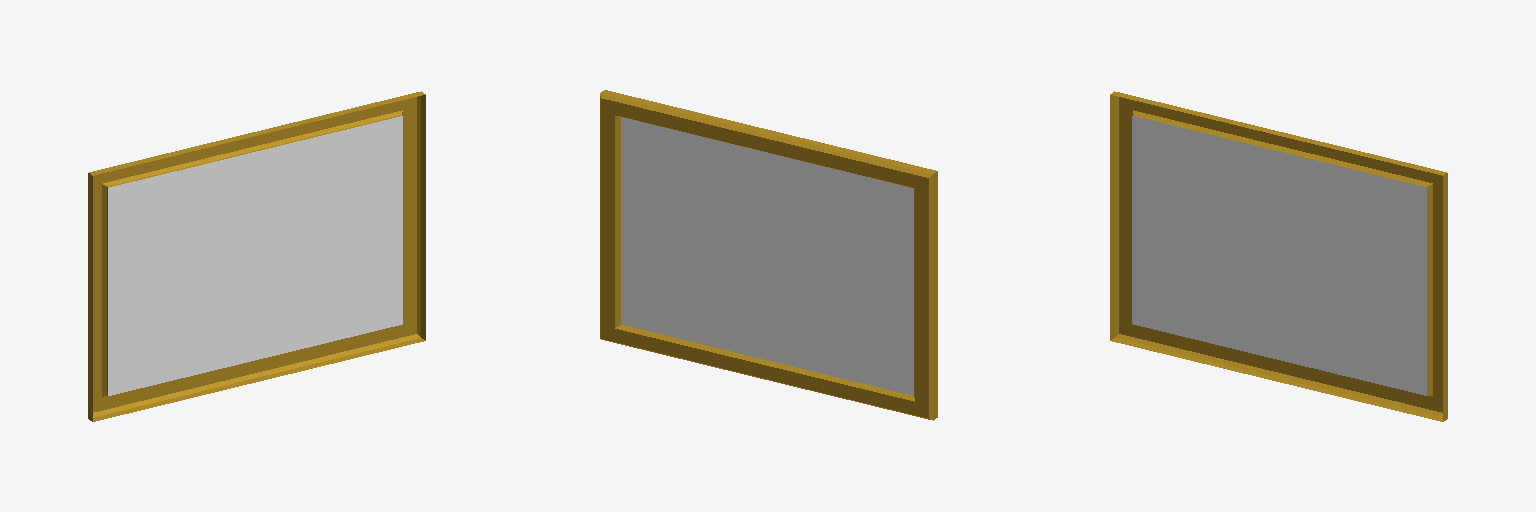
Rendered from frame2.obj.
The picture shows the model from 3 angles: view 1: azimuth 30°, elevation 25°; view 2: azimuth 150°, elevation 25°; view 3: azimuth 330°, elevation 25°; orthographic projection.
Visible parts, largest first — view 1: frame2; view 2: frame2; view 3: frame2.
Boxes of the visible parts, x1=… form: frame2: x1=88, y1=91, x2=425, y2=421; frame2: x1=600, y1=90, x2=937, y2=420; frame2: x1=1110, y1=91, x2=1447, y2=421.
Size of the model in its own units: 1.2 by 0.8475 by 0.041.